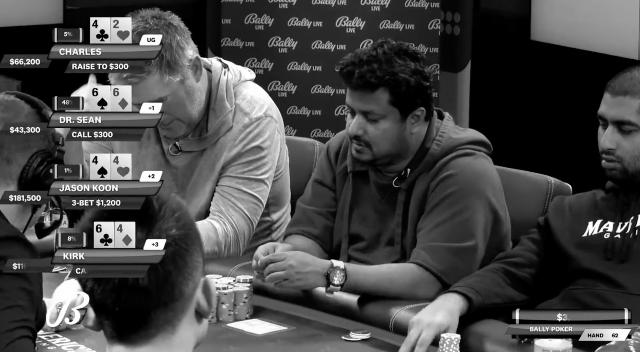2H: (110, 18, 132, 42)
4C: (90, 17, 110, 42)
4D: (115, 223, 135, 247)
4H: (111, 154, 132, 179)
4S: (90, 155, 110, 179)
6C: (94, 222, 116, 248)
6D: (111, 85, 131, 110)
6S: (90, 85, 110, 111)
